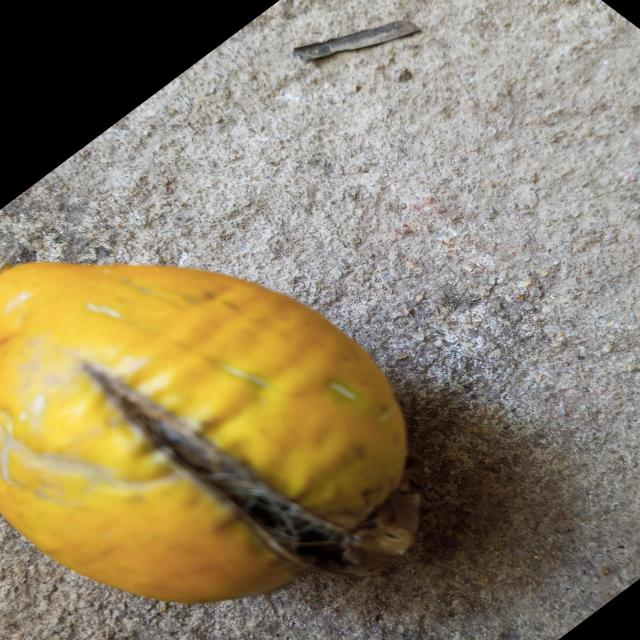damaged: (0, 262, 419, 608)
